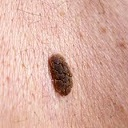Actinic: (47, 53, 78, 99)
